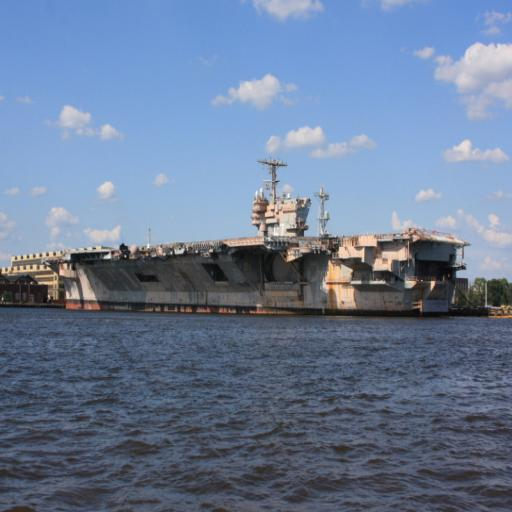Portanaves: (44, 141, 474, 319)
